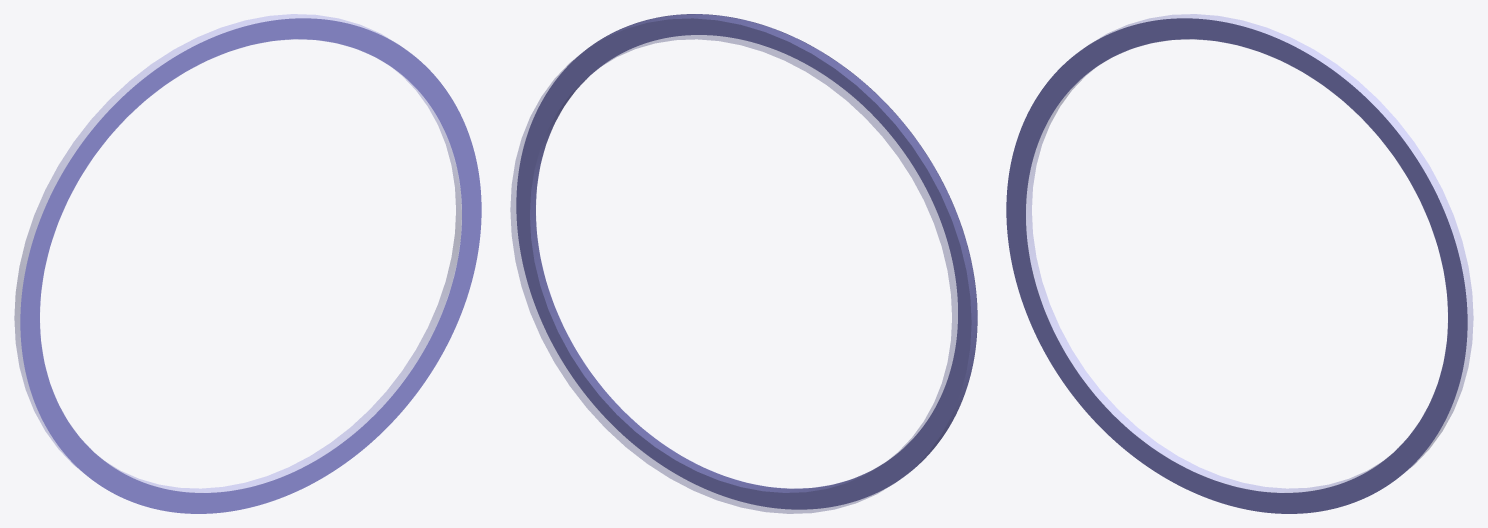
Rendered from Belle2Geo_Material_TOP_BWD.gltf.
3 views of the same model, side by side, from view 1: azimuth 30°, elevation 25°; view 2: azimuth 150°, elevation 25°; view 3: azimuth 330°, elevation 25° (orthographic).
Parts seen in each view (by area): view 1: ServiceMaterial.GAPTopBack_1; view 2: ServiceMaterial.GAPTopBack_1; view 3: ServiceMaterial.GAPTopBack_1.
Part boxes in pixels (x1,y1,x2,y2): ServiceMaterial.GAPTopBack_1: (14, 14, 480, 513); ServiceMaterial.GAPTopBack_1: (510, 14, 977, 513); ServiceMaterial.GAPTopBack_1: (1007, 14, 1473, 513).
Size of the model in its own units: 249 by 249 by 5.6.
